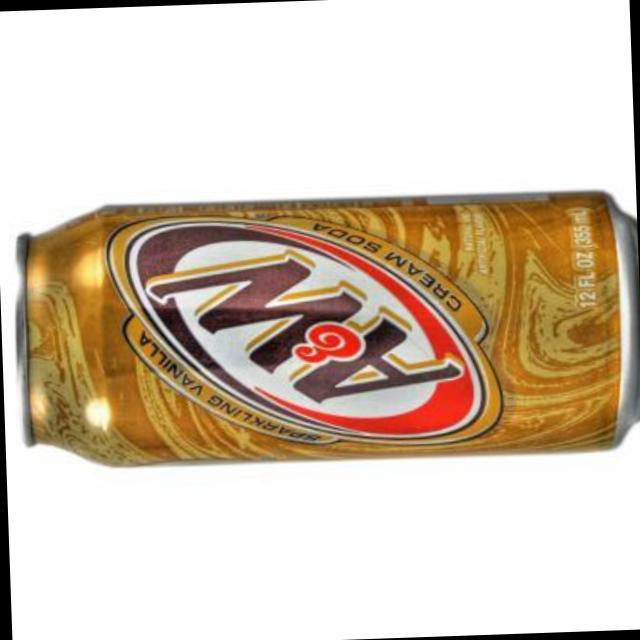metal: (14, 196, 640, 467)
